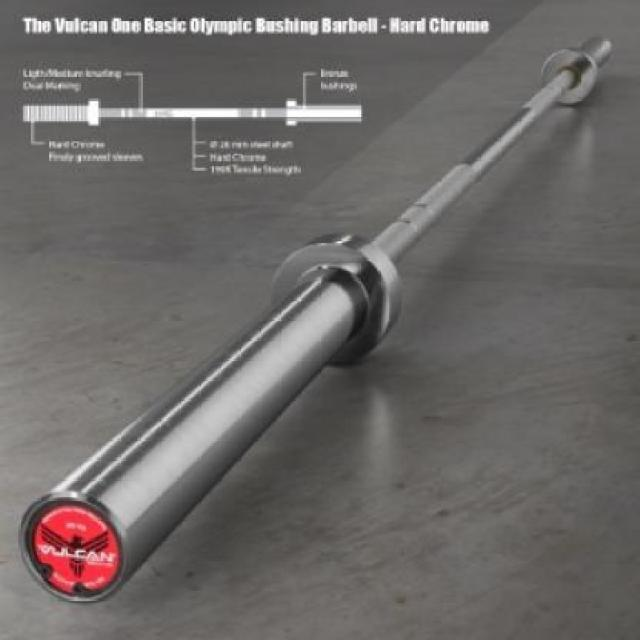Barbell: (11, 464, 148, 618)
